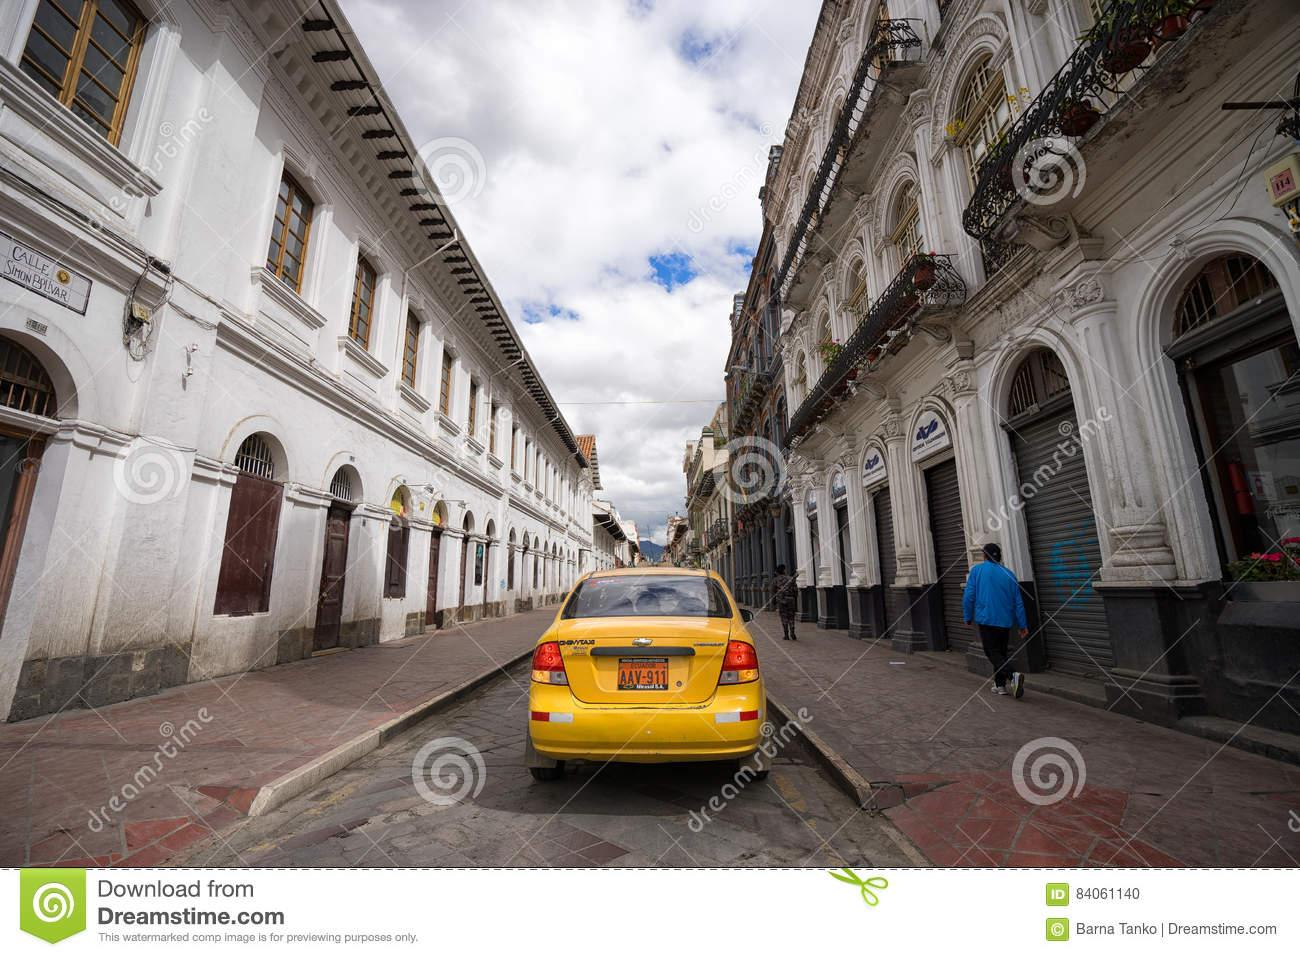taxi: (523, 566, 804, 797)
